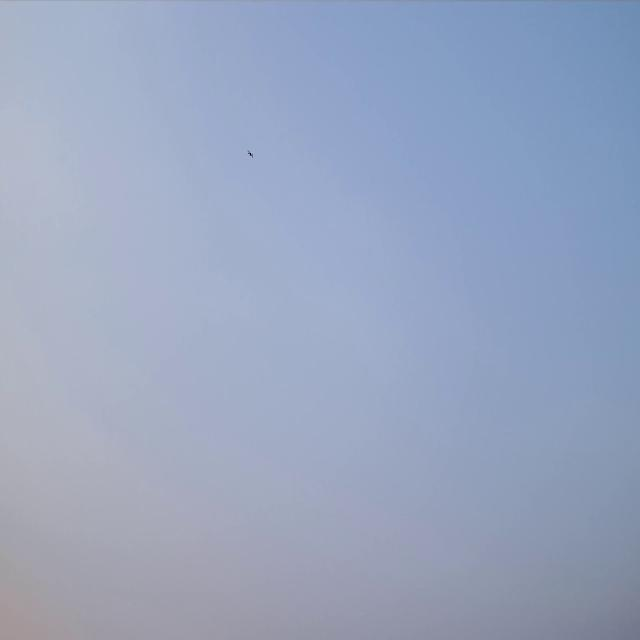UAV: (247, 149, 253, 157)
